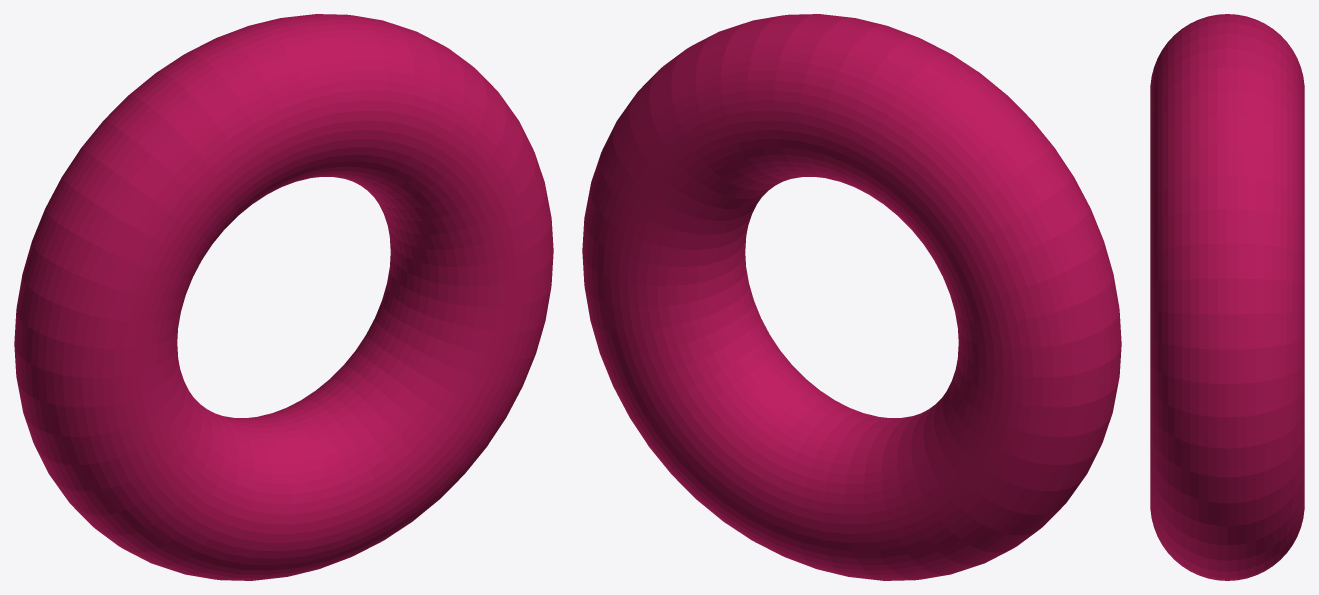
The picture shows the model from 3 angles, left to right: view 1: azimuth 30°, elevation 25°; view 2: azimuth 150°, elevation 25°; view 3: azimuth 270°, elevation 25°; orthographic projection. The views are drawn at different scales.
Visible parts, largest first — view 1: world; view 2: world; view 3: world.
Part boxes in pixels (box(x1,y1,x2,y2)): world: box(14, 14, 553, 580); world: box(582, 14, 1121, 580); world: box(1150, 14, 1304, 580).
Bounding box in the file's own units: 36.67 × 36.59 × 9.98.
